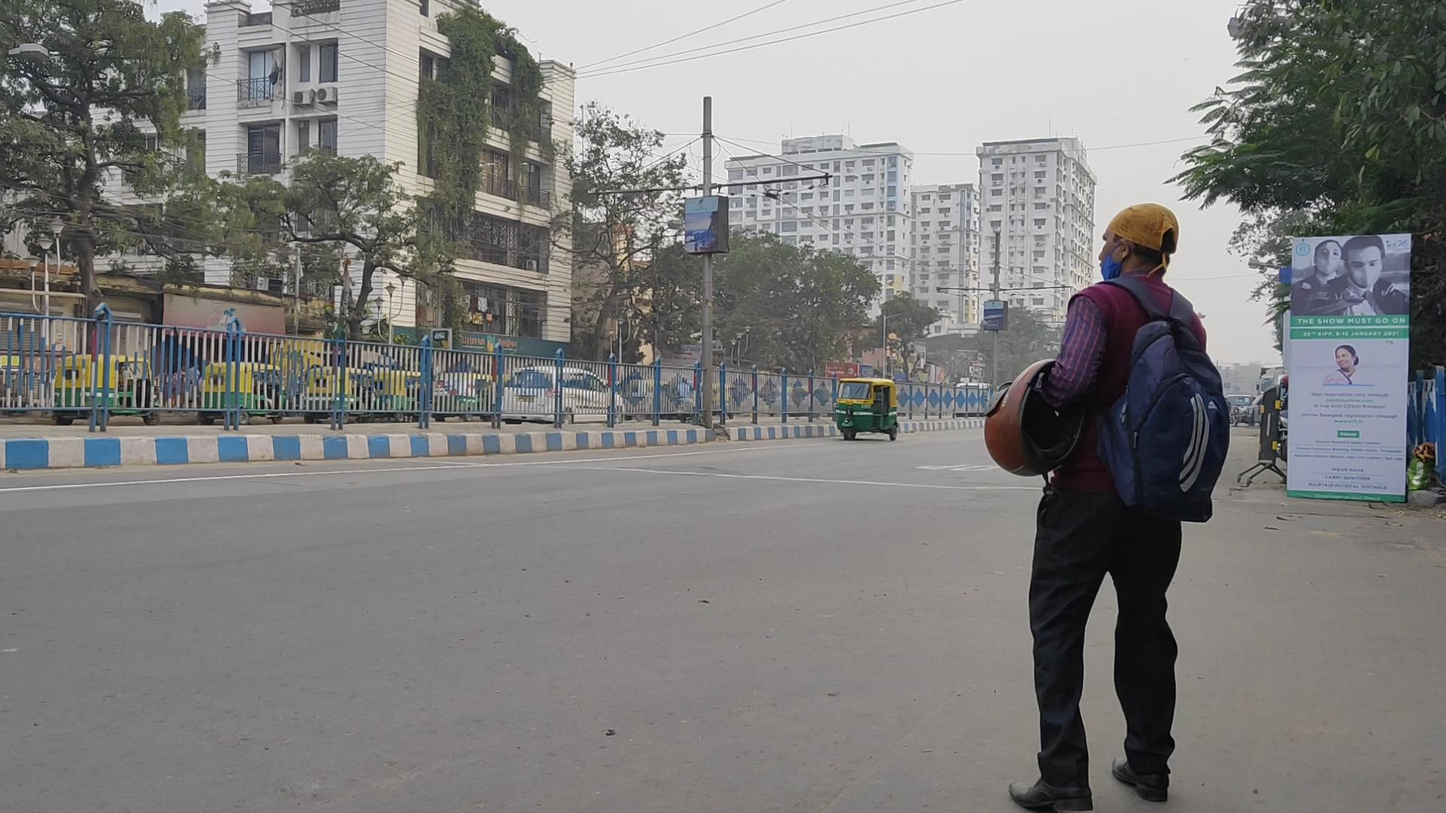Auto: (834, 378, 898, 441)
